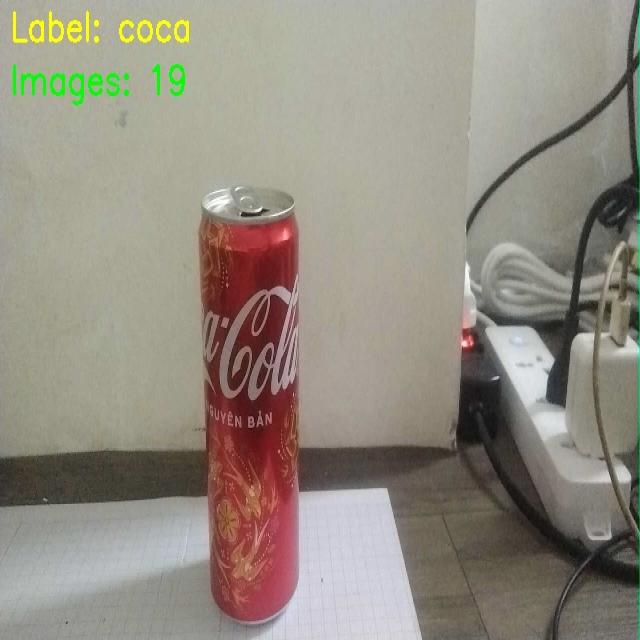Coca: (168, 167, 319, 633)
